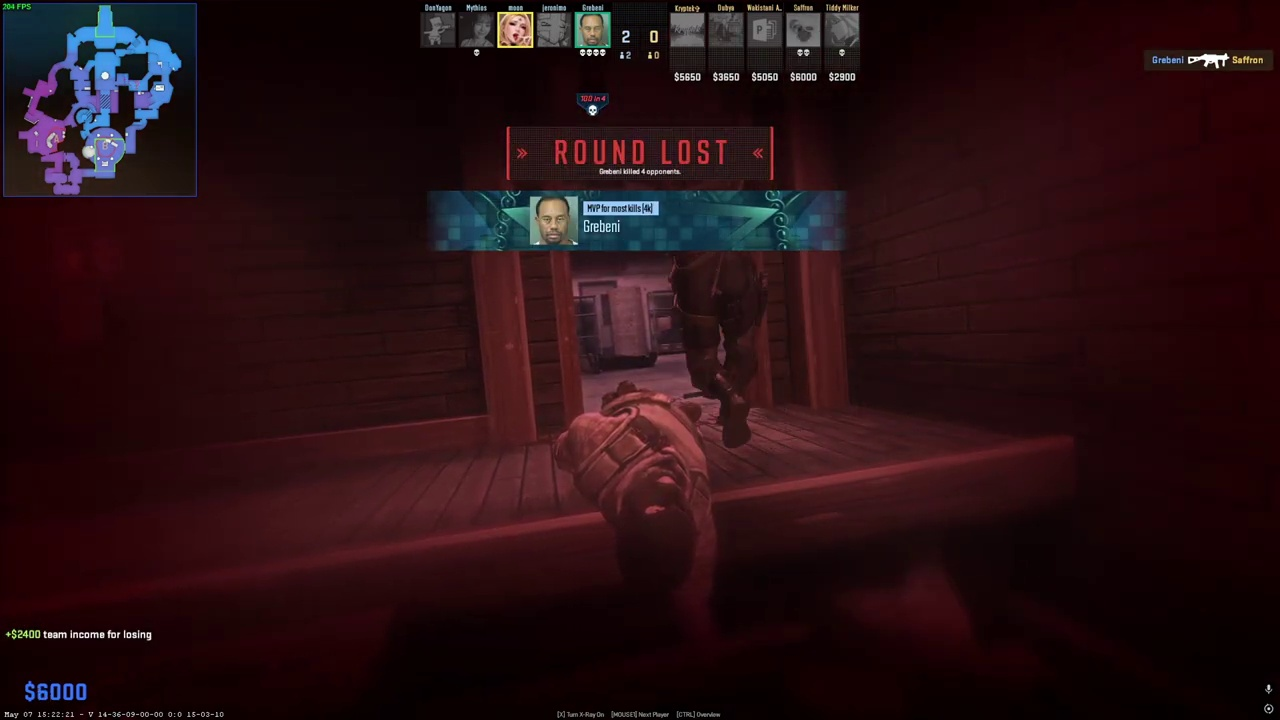CT: (668, 248, 765, 448)
